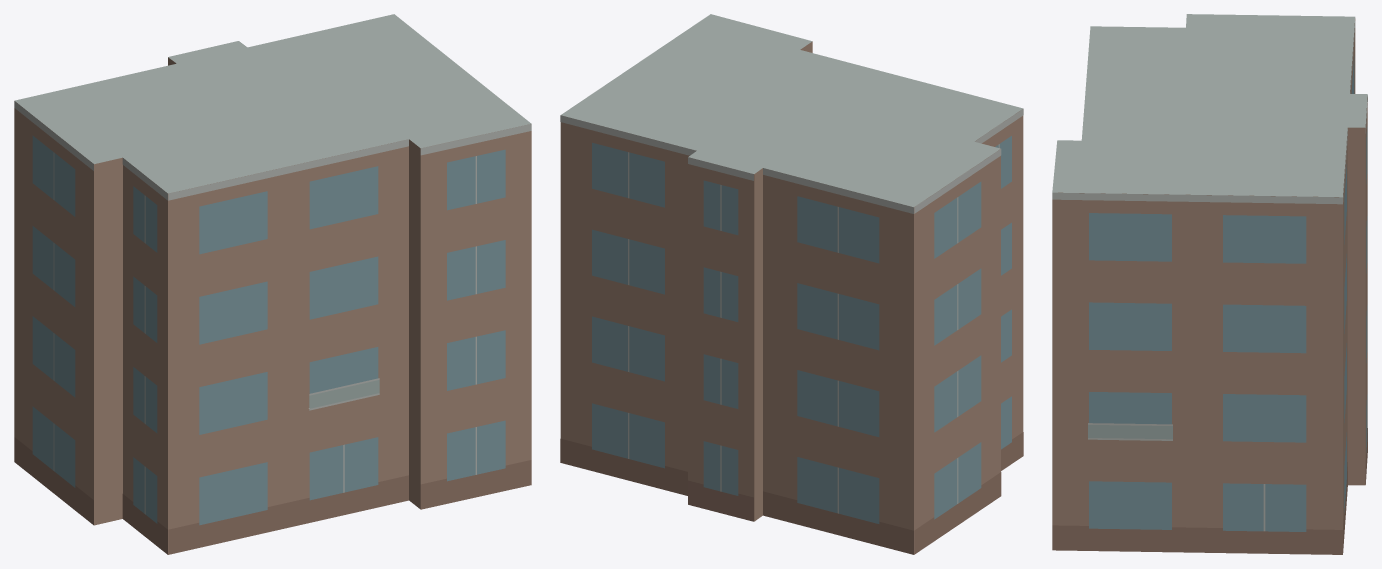
File: survey-upis-32704921.glb
3 views of the same model, side by side, from view 1: azimuth 30°, elevation 25°; view 2: azimuth 150°, elevation 25°; view 3: azimuth 270°, elevation 25° (orthographic). The views are drawn at different scales.
Parts seen in each view (by area): view 1: survey-upis-32704921.tmp; view 2: survey-upis-32704921.tmp; view 3: survey-upis-32704921.tmp.
Boxes of the visible parts, box(x1,y1,x2,y2) form: survey-upis-32704921.tmp: box(14, 14, 531, 554); survey-upis-32704921.tmp: box(560, 14, 1023, 554); survey-upis-32704921.tmp: box(1052, 14, 1367, 554).
Bounding box in the file's own units: 13.57 × 12.35 × 9.88.
